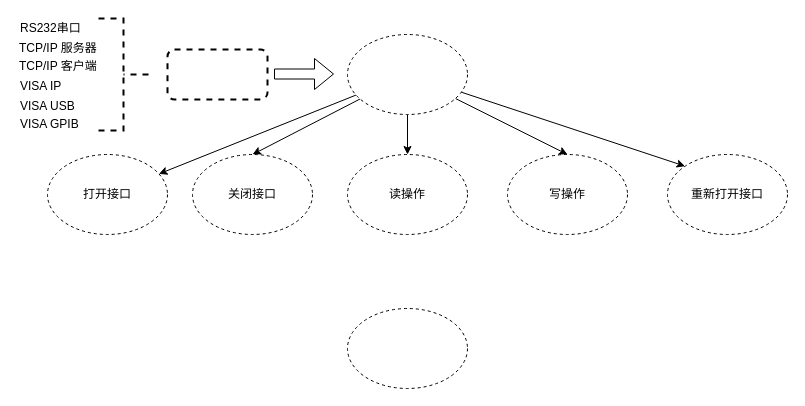
Some shapes in this 805 by 406 pixel diagram are drawn without their labels. Here are the shapes that lost their labels. From the top down, the centre of each, then its label:
(217,74): 传入参数列表
(407,74): 实例化通信接口
(407,348): 指令数据库
